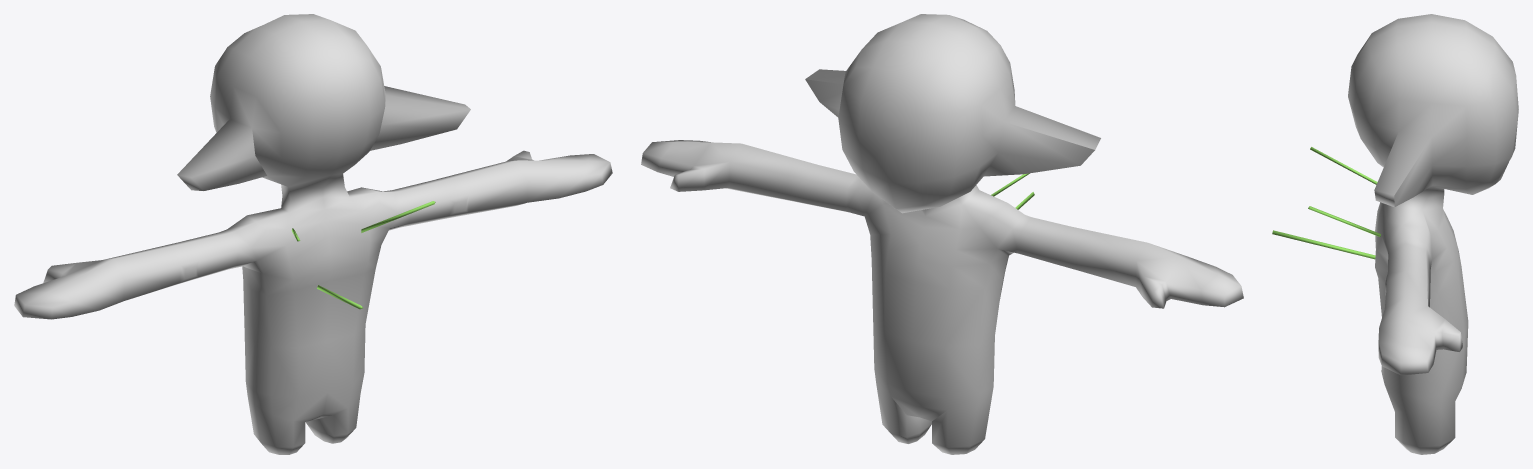
File: gubbe.fbx
3 views of the same model, side by side, from view 1: azimuth 30°, elevation 25°; view 2: azimuth 150°, elevation 25°; view 3: azimuth 270°, elevation 25° (orthographic).
Parts seen in each view (by area): view 1: needle_guy; view 2: needle_guy; view 3: needle_guy, Cylinder.002, Cylinder, Cylinder.001.
Part boxes in pixels (x1=…): needle_guy: x1=14, y1=14, x2=612, y2=454; needle_guy: x1=641, y1=14, x2=1243, y2=454; needle_guy: x1=1348, y1=14, x2=1518, y2=454; Cylinder.002: x1=1272, y1=230, x2=1375, y2=259; Cylinder: x1=1308, y1=206, x2=1380, y2=236; Cylinder.001: x1=1310, y1=147, x2=1377, y2=184.
Size of the model in its own units: 175 by 118 by 63.97.
